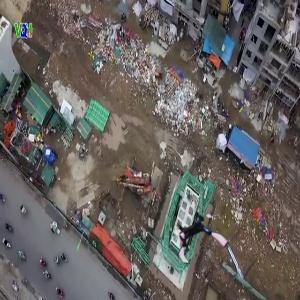drone: (170, 212, 227, 269)
